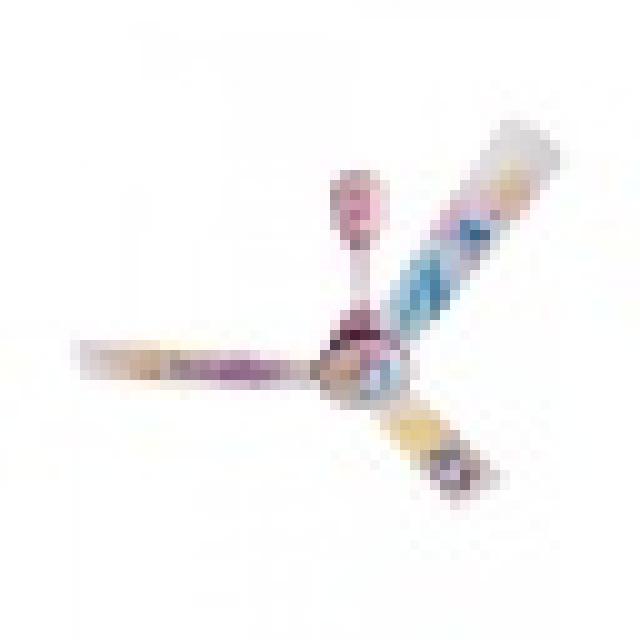Bulb: (79, 132, 581, 521)
